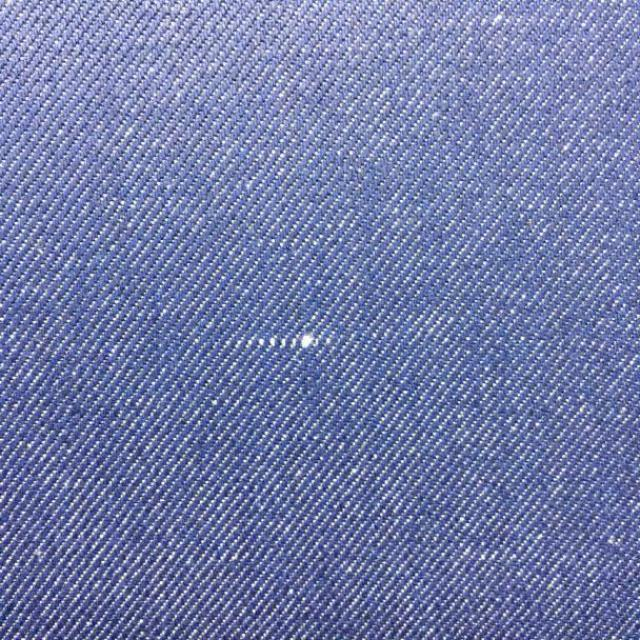Knot: (226, 333, 332, 350)
